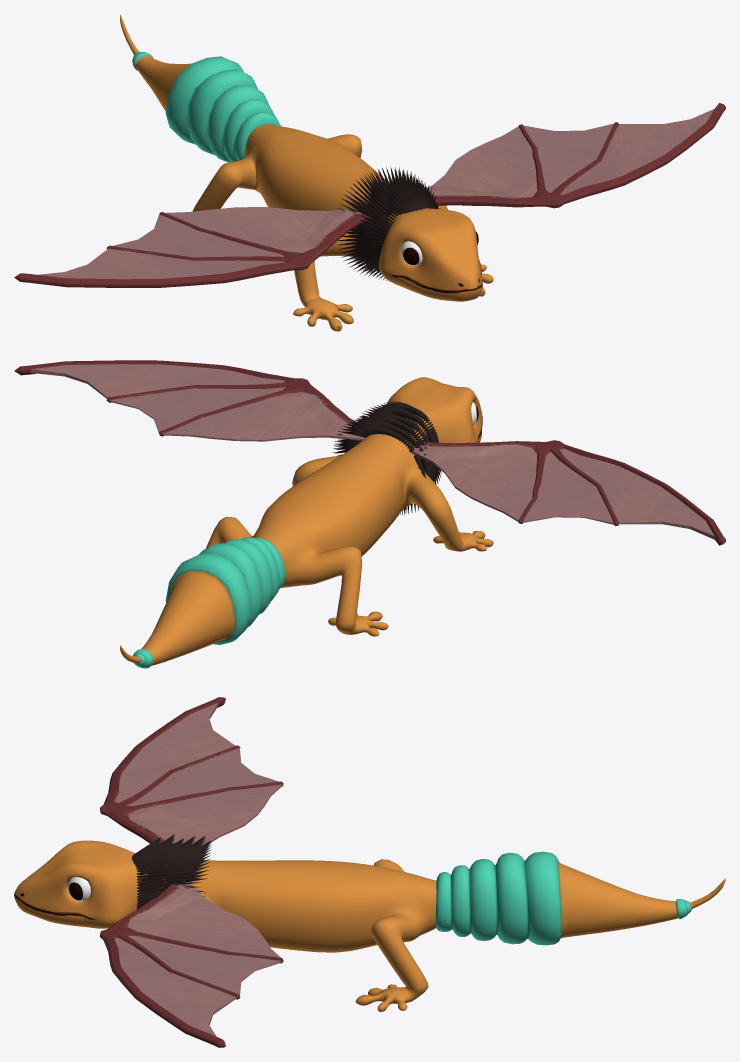
File: yamori.fbx
3 renders of one model, top to bottom at view 1: azimuth 30°, elevation 25°; view 2: azimuth 150°, elevation 25°; view 3: azimuth 270°, elevation 25°, orthographic.
Visible parts, largest first — view 1: wing, body, oppo, head, tosaka; view 2: wing, body, oppo, head, tosaka; view 3: wing, body, oppo, head, tosaka.
Part boxes in pixels (x1,y1,x2,y2): wing: [14, 103, 725, 287]; body: [192, 124, 493, 331]; oppo: [120, 14, 280, 162]; head: [379, 208, 482, 301]; tosaka: [337, 167, 440, 280]; wing: [14, 360, 725, 545]; body: [205, 415, 493, 636]; oppo: [120, 537, 285, 668]; head: [386, 377, 482, 443]; tosaka: [332, 401, 441, 516]; wing: [100, 697, 283, 1047]; body: [136, 859, 436, 1011]; oppo: [435, 851, 725, 945]; head: [14, 840, 139, 928]; tosaka: [132, 834, 211, 909].
Bounding box in the file's own units: 220 × 38.37 × 190.
